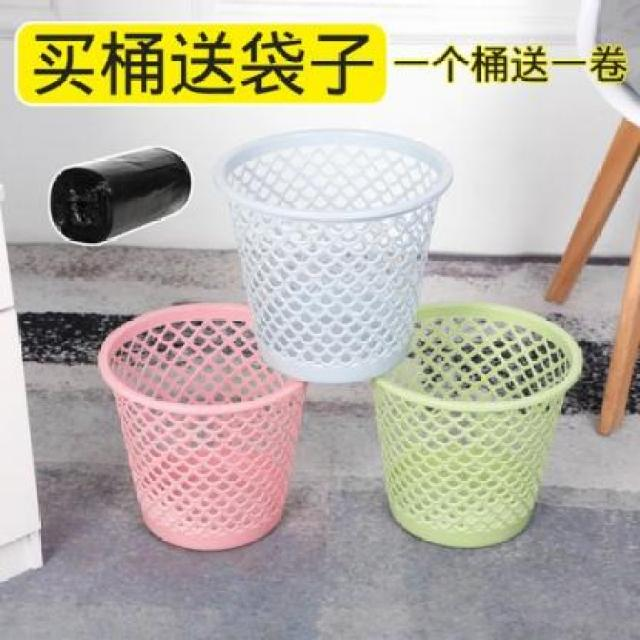dustbin: (208, 123, 457, 387), (94, 300, 314, 555), (369, 300, 584, 552)
